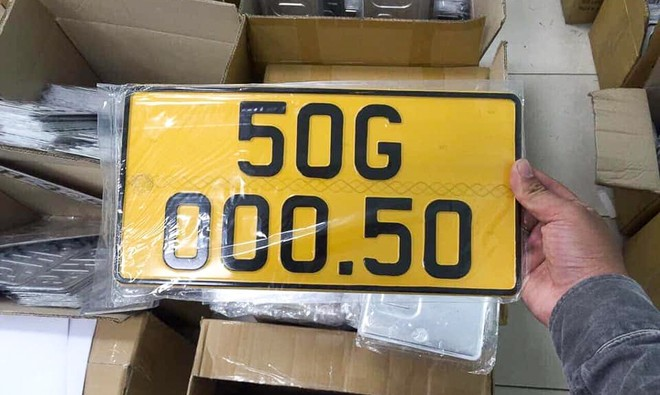plate: (114, 82, 521, 296)
